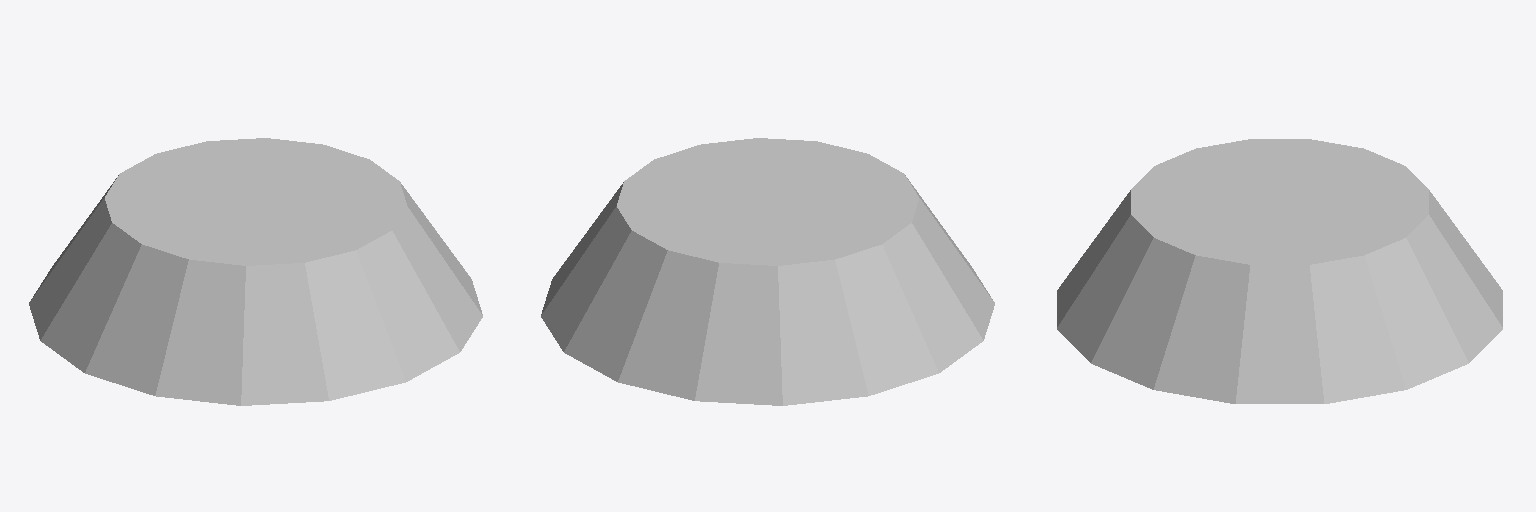
The model's file is aquarius_parachute_s0p5_1_collider.obj.
3 renders of one model, left to right at view 1: azimuth 30°, elevation 25°; view 2: azimuth 150°, elevation 25°; view 3: azimuth 270°, elevation 25°, orthographic.
Parts seen in each view (by area): view 1: aquarius_parachute_s0p5_1_collider; view 2: aquarius_parachute_s0p5_1_collider; view 3: aquarius_parachute_s0p5_1_collider.
Part boxes in pixels (bbox=[...]): aquarius_parachute_s0p5_1_collider: bbox=[29, 138, 482, 405]; aquarius_parachute_s0p5_1_collider: bbox=[541, 138, 994, 405]; aquarius_parachute_s0p5_1_collider: bbox=[1057, 139, 1502, 403].
Bounding box in the file's own units: 0.9375 × 0.25 × 0.9375.